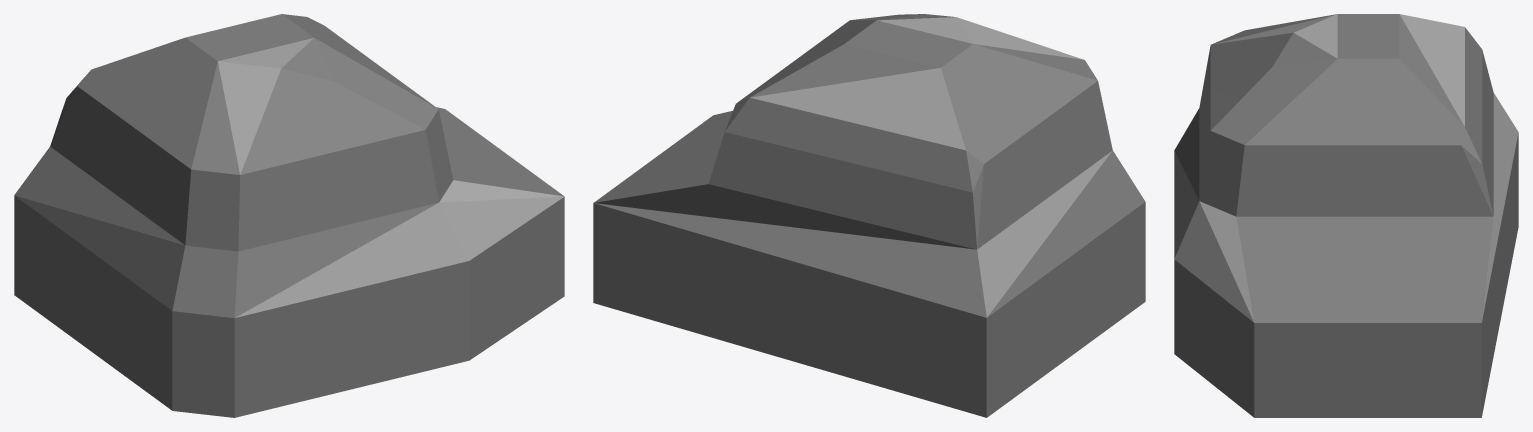
File: rock_1.fbx
3 renders of one model, left to right at view 1: azimuth 30°, elevation 25°; view 2: azimuth 150°, elevation 25°; view 3: azimuth 270°, elevation 25°, orthographic. The views are drawn at different scales.
Visible parts, largest first — view 1: rock_1; view 2: rock_1; view 3: rock_1.
Boxes of the visible parts, x1,y1,x2,y2 form: rock_1: [14, 14, 564, 417]; rock_1: [593, 14, 1145, 417]; rock_1: [1174, 14, 1518, 417].
Bounding box in the file's own units: 76.12 × 48.92 × 57.97.
